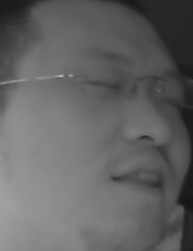blink: (84, 77, 118, 92)
glass: (75, 59, 137, 102)
mouth: (110, 155, 171, 199)
